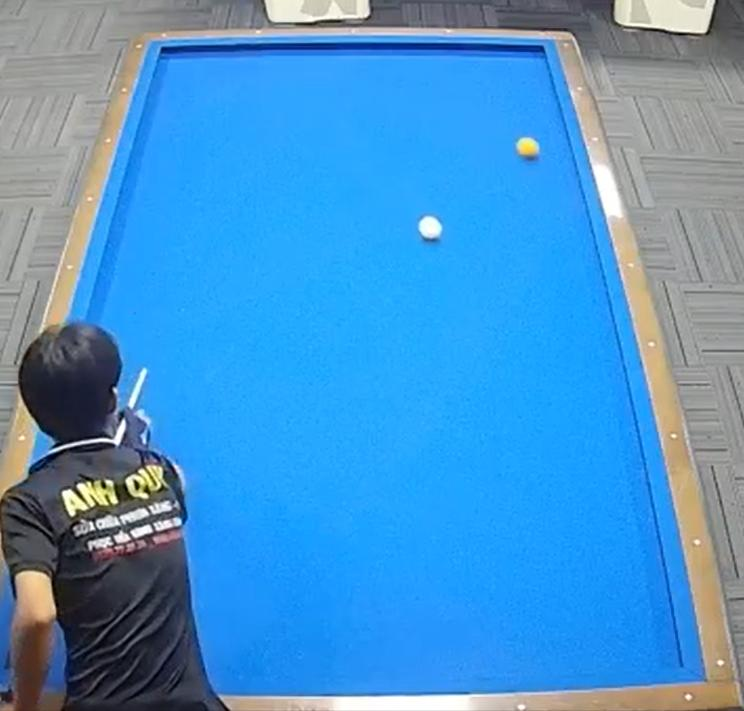white ball: (417, 209, 448, 254)
yellow ball: (511, 129, 542, 168)
